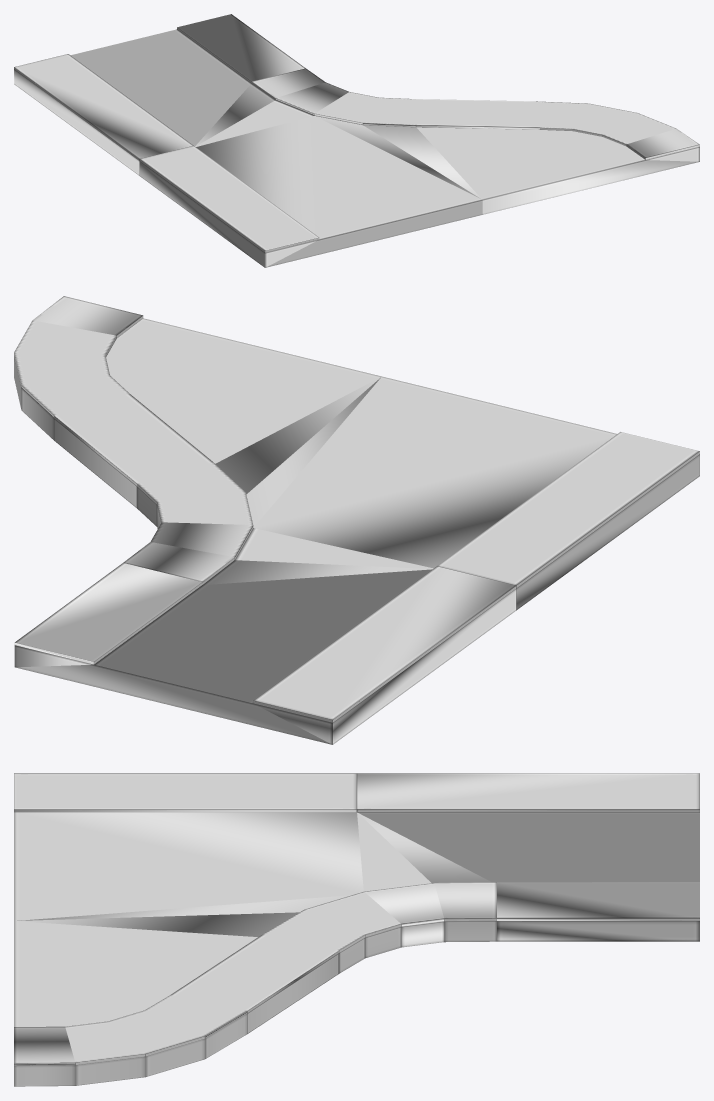
Rendered from Road-17.fbx.
The picture shows the model from 3 angles, top to bottom: view 1: azimuth 30°, elevation 25°; view 2: azimuth 150°, elevation 25°; view 3: azimuth 270°, elevation 25°; orthographic projection. The views are drawn at different scales.
Visible parts, largest first — view 1: Road_17; view 2: Road_17; view 3: Road_17.
Boxes of the visible parts, x1,y1,x2,y2 form: Road_17: (14,14,699,267); Road_17: (14,296,699,744); Road_17: (14,773,699,1086).
Bounding box in the file's own units: 8 × 0.3 × 8.
